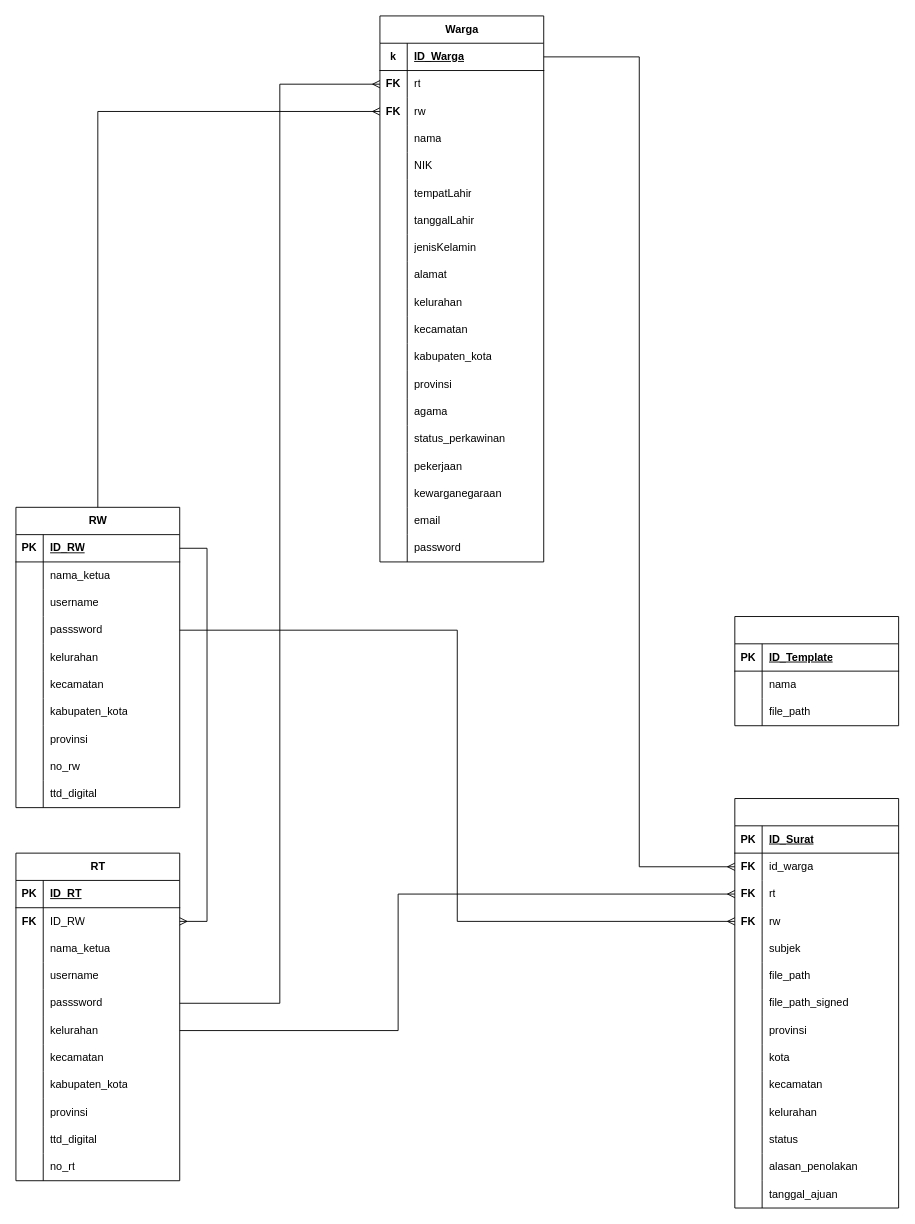
Image size: 915x1224. Some labels were removed from this diagram. Each missing label, with the box of its shape:
Pengajuan_Surat: (734, 798, 899, 1208)
Template_Surat: (734, 616, 899, 726)
